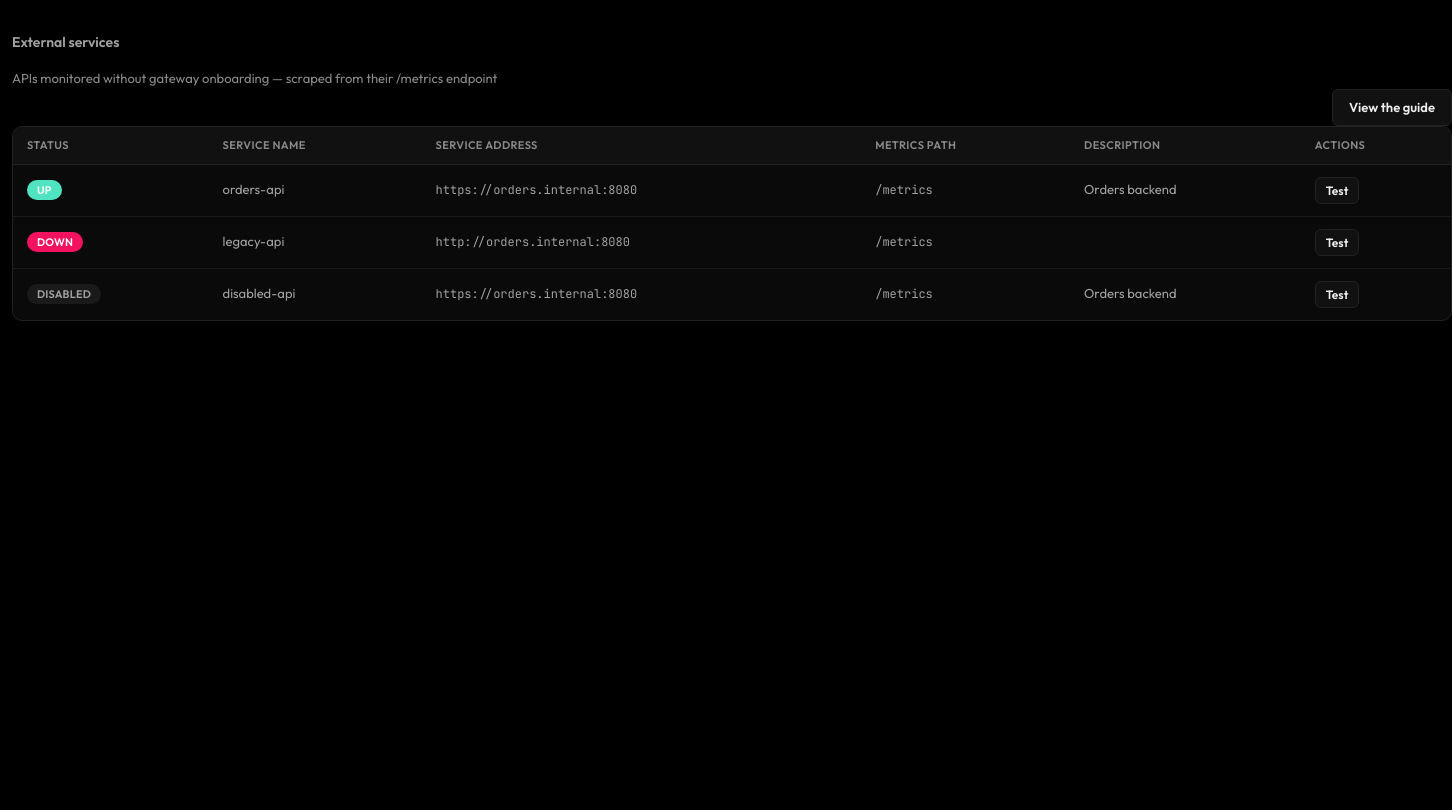
Test: ExternalServicesSection › tests up and down services and renders status/address fallbacks
This screenshot has width=1452, height=810.
Expected: the text "orders-api" is shown, [209,164,422,216]
Expected: the text "http://orders.internal:8080" is shown, [422,216,861,268]
Step 1. Click the button with aria-label "Test service orders-api" → (1337, 190), box [1315,176,1359,204]
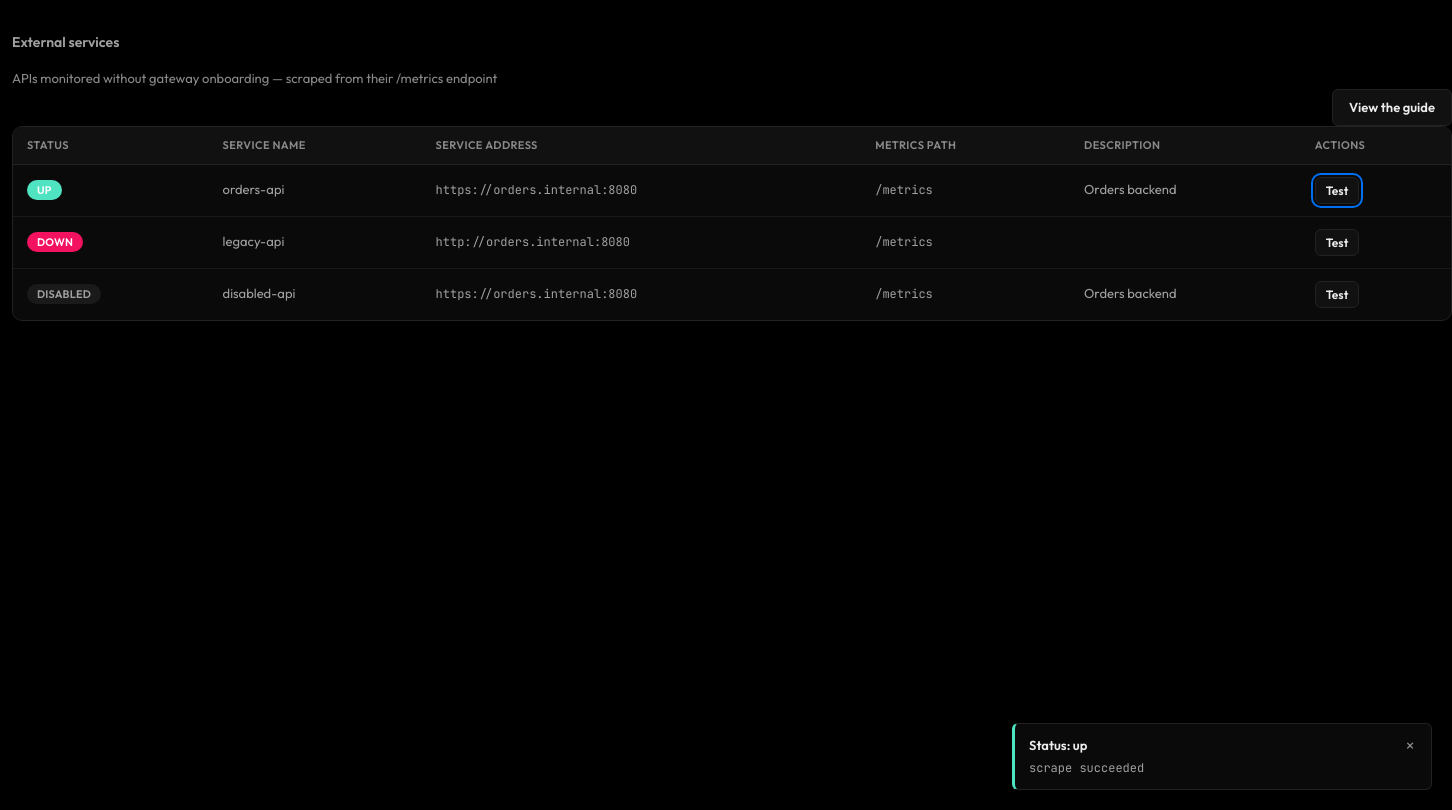
Result: the text "scrape succeeded" is shown at [1029,760,1144,776]
Step 2. Click the button with aria-label "Test service legacy-api" → (1337, 242), box [1315,228,1359,256]
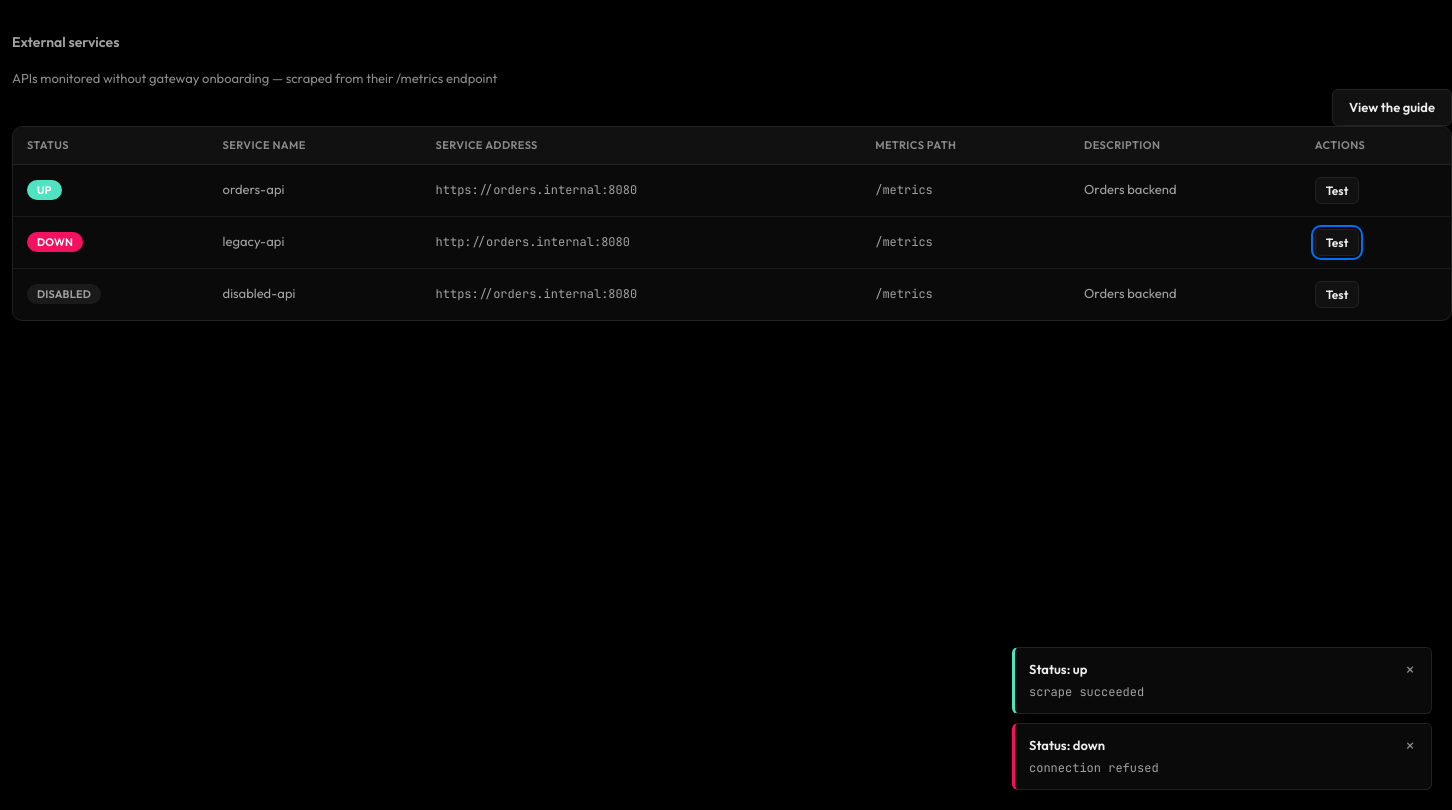
Result: the text "connection refused" is shown at [1029,760,1159,776]
